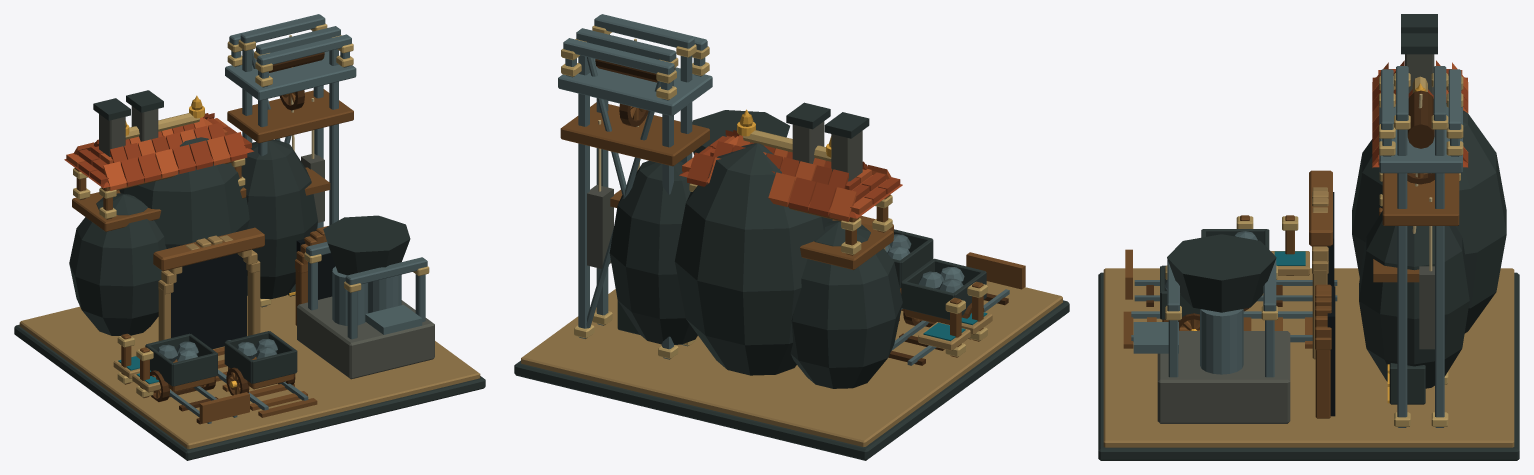
The picture shows the model from 3 angles, left to right: view 1: azimuth 30°, elevation 25°; view 2: azimuth 150°, elevation 25°; view 3: azimuth 270°, elevation 25°; orthographic projection. The views are drawn at different scales.
Visible parts, largest first — view 1: mine_14_structure; view 2: mine_14_structure; view 3: mine_14_structure.
Part boxes in pixels (bbox=[...]): mine_14_structure: bbox=[14, 14, 485, 460]; mine_14_structure: bbox=[514, 14, 1069, 460]; mine_14_structure: bbox=[1098, 14, 1519, 460].
Size of the model in its own units: 5.6 by 4.91 by 5.6.
